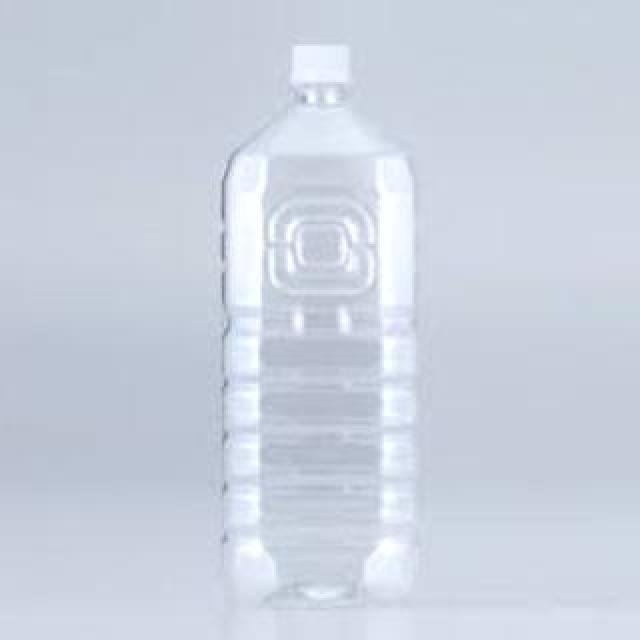Pet_Bottle: (213, 37, 429, 623)
